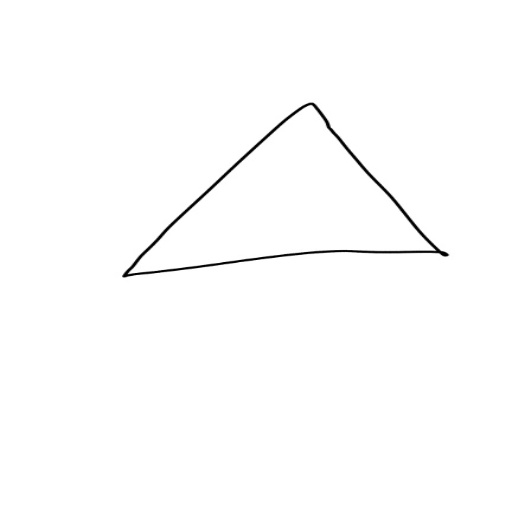triangle: (108, 98, 455, 305)
